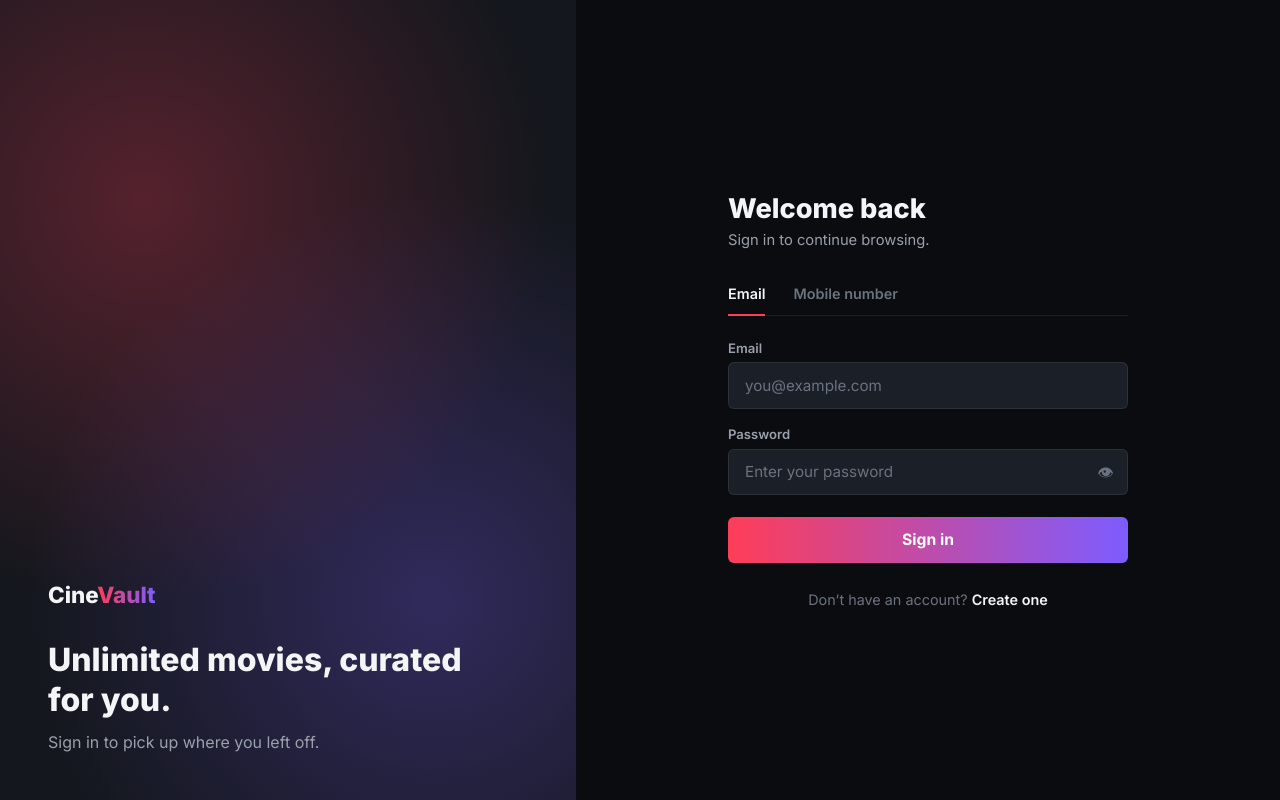
Test: Login page › shows a validation error instead of submitting when fields are empty
This screenshot has width=1280, height=800.
Click the button "Sign in" at (928, 540), box [728,517,1128,563]
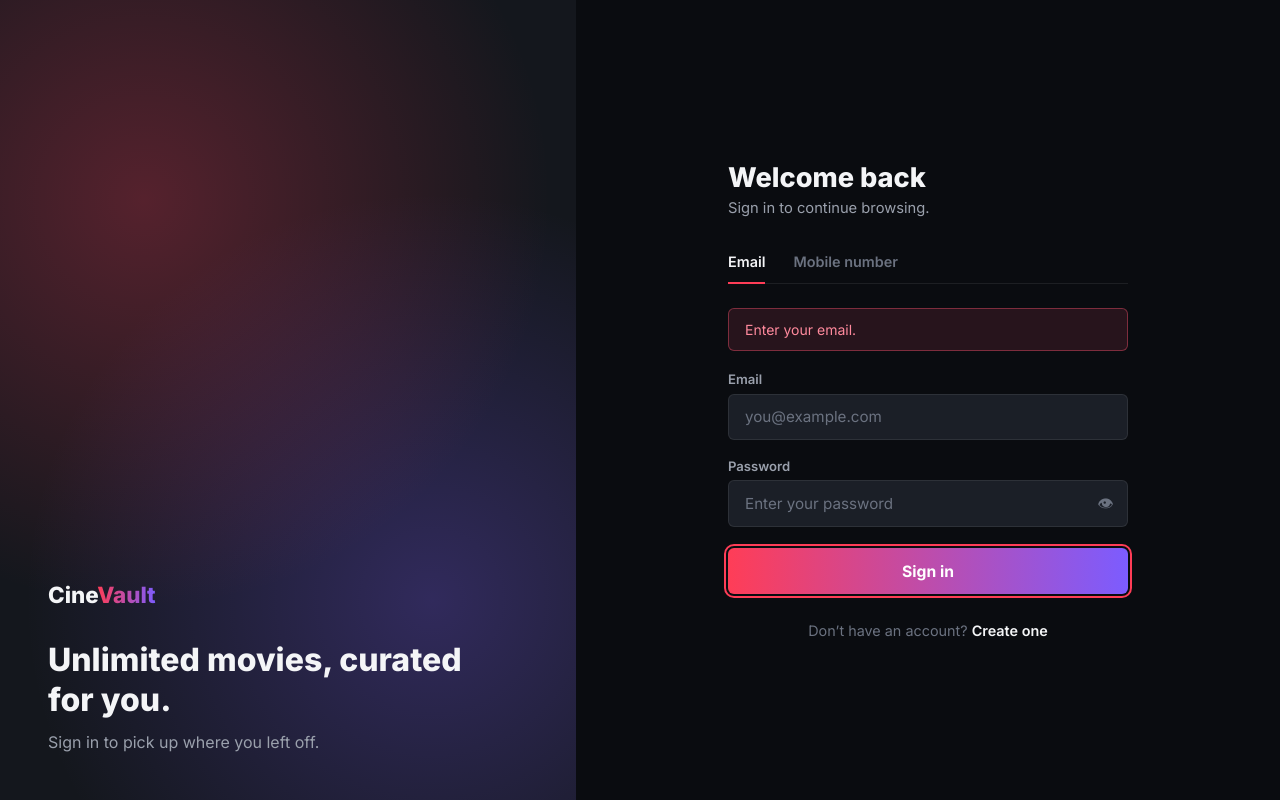
expect the message shows "Enter your email": met, box [745,321,856,338]
